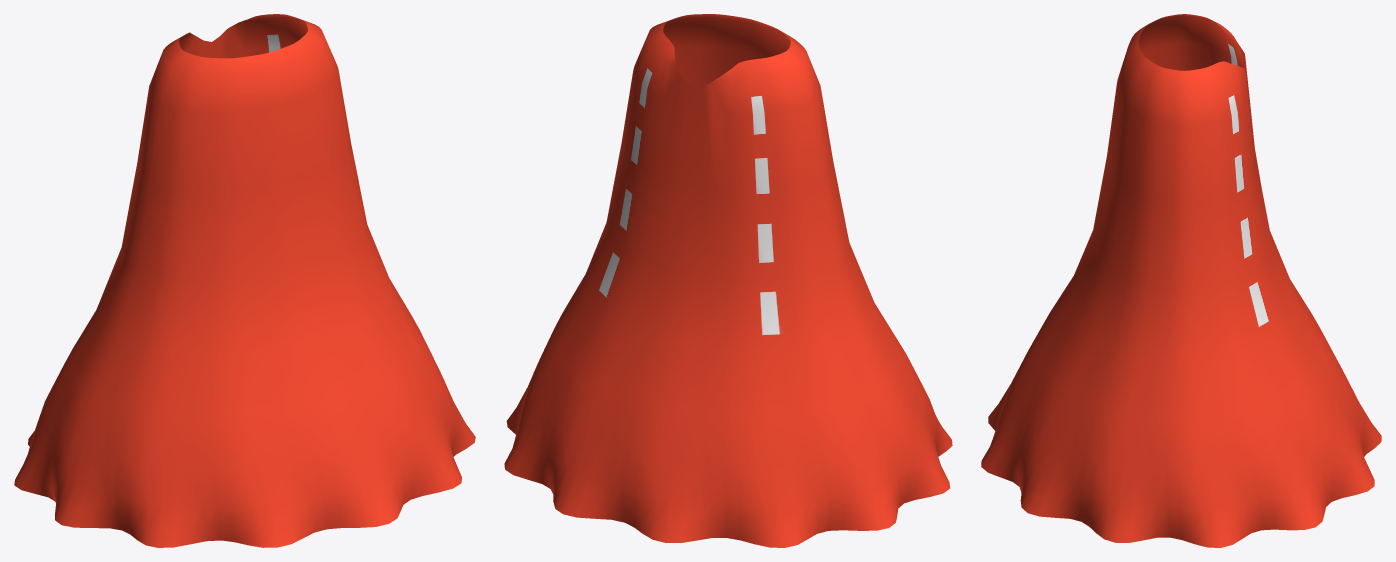
The model's file is reimu_dress.glb.
The picture shows the model from 3 angles, left to right: view 1: azimuth 30°, elevation 25°; view 2: azimuth 150°, elevation 25°; view 3: azimuth 270°, elevation 25°; orthographic projection. The views are drawn at different scales.
Visible parts, largest first — view 1: reimu_dress; view 2: reimu_dress; view 3: reimu_dress.
Boxes of the visible parts, x1,y1,x2,y2 form: reimu_dress: [14, 14, 475, 547]; reimu_dress: [504, 14, 952, 547]; reimu_dress: [981, 14, 1381, 547].
Size of the model in its own units: 1.41 by 1.41 by 1.24.
1 material, 1 textured.
